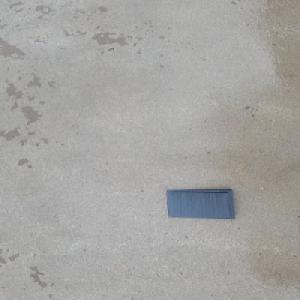PlasticPart: (165, 188, 236, 220)
